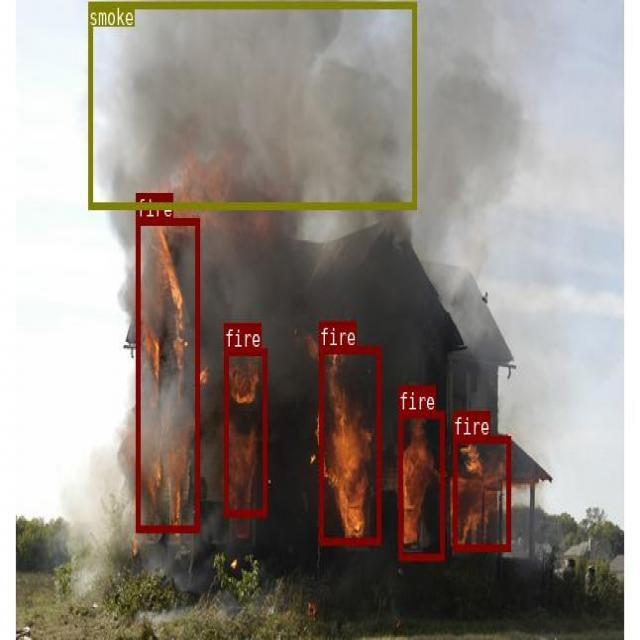fire: (135, 217, 198, 530), (319, 346, 380, 543), (223, 348, 266, 516), (398, 410, 443, 560), (453, 435, 510, 550)
smoke: (88, 1, 415, 208)
